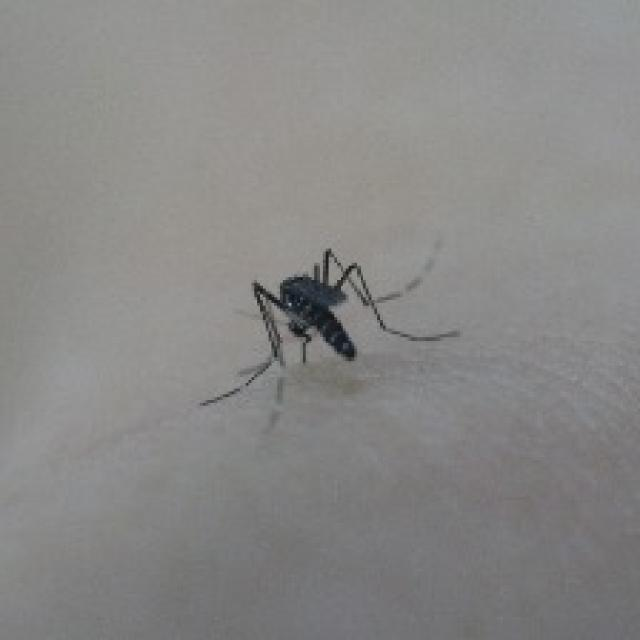aedes: (194, 231, 460, 423)
